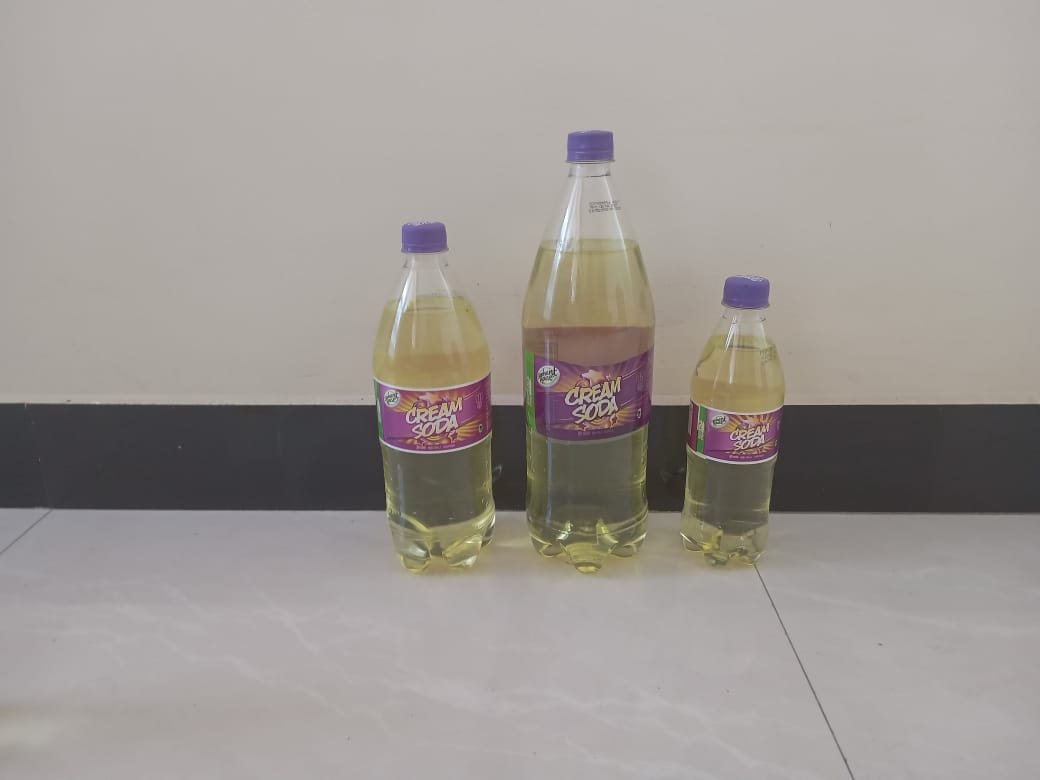L: (520, 130, 659, 572)
M: (372, 219, 500, 573)
S: (684, 274, 784, 572)
